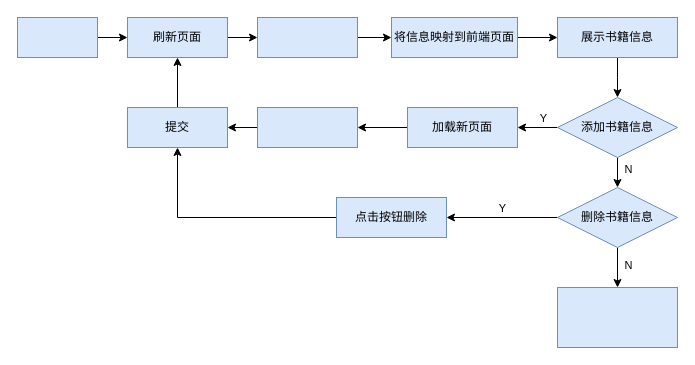
This 695x365 diagram has some shape labels left out. The centre of each missing label's shape, as x and y in pixels:
"从数据库获取信息" goes at (x=307, y=37).
"在新页面填写信息" goes at (x=307, y=127).
"开始" goes at (x=57, y=37).
"结束" goes at (x=617, y=317).
